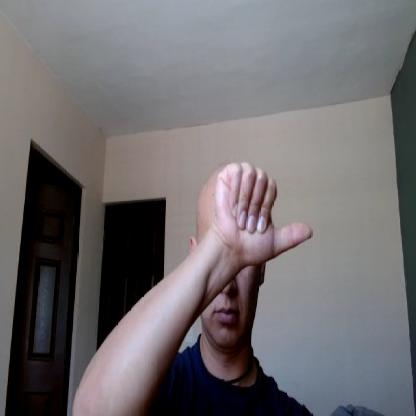A: (213, 160, 312, 268)
